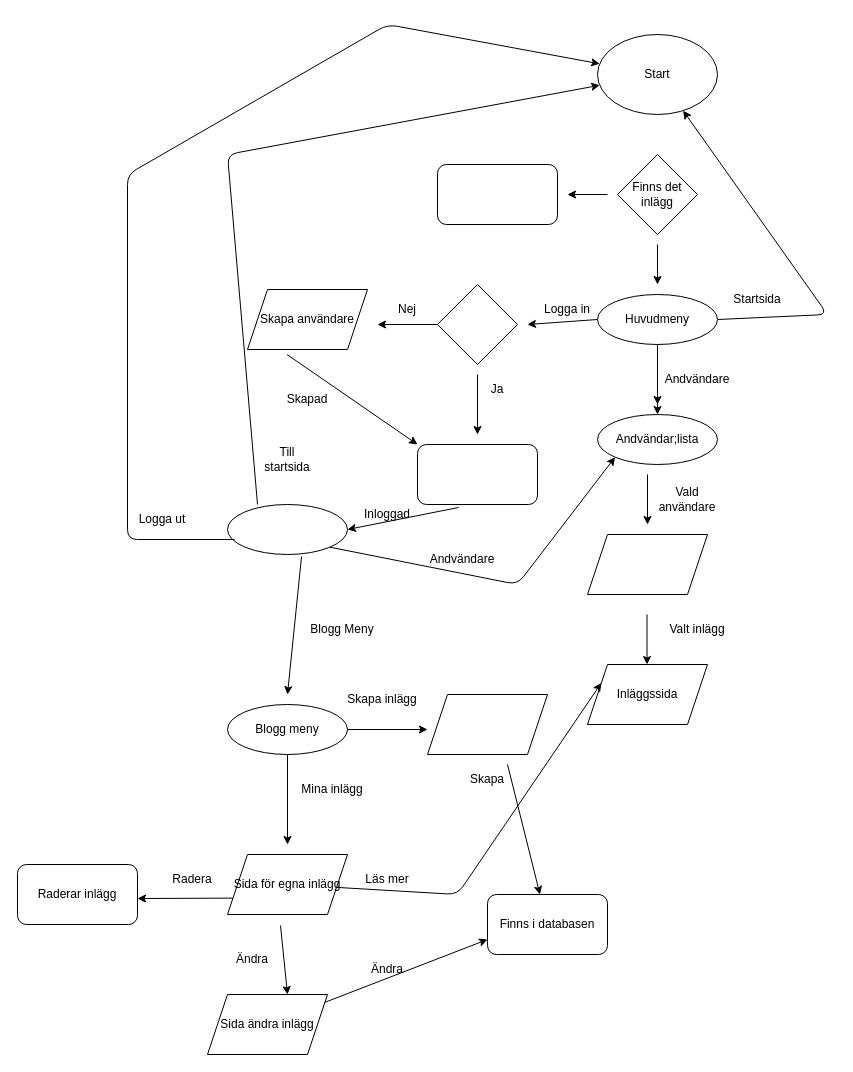
Some shapes in this 853 by 1072 pixel diagram are drawn without their labels. The centre of each missing label's shape, as x and y in pixels:
Finns andvändare: pixel 477 324
Inloggad meny: pixel 287 529
Logga in användare: pixel 477 474
Sida med användarens inlägg: pixel 647 564
Sida skapa: pixel 487 724
Skriv ut inläggen: pixel 497 194
